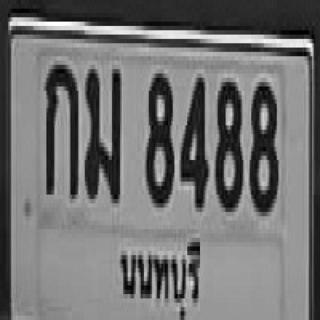A01: (44, 61, 80, 203)
A33: (83, 65, 123, 207)
N04: (179, 74, 209, 212)
N08: (248, 78, 279, 218), (144, 69, 175, 206), (214, 78, 245, 213)
P37: (116, 224, 204, 320)
